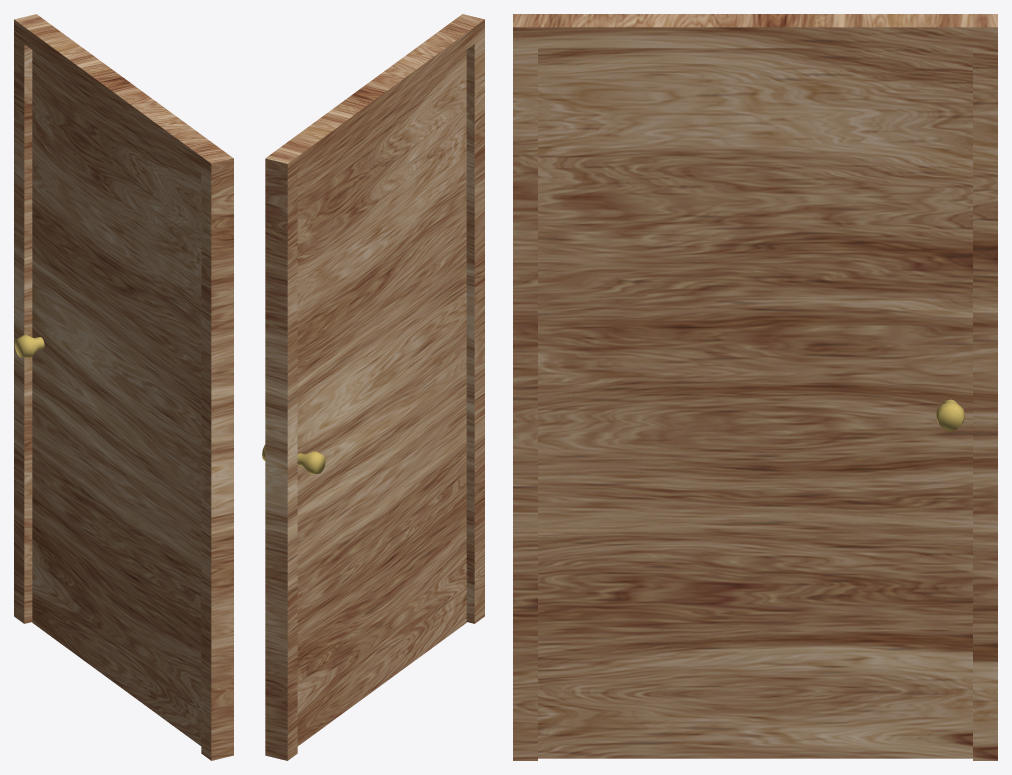
The model's file is G_p_tuer1.fbx.
3 renders of one model, left to right at view 1: azimuth 30°, elevation 25°; view 2: azimuth 150°, elevation 25°; view 3: azimuth 270°, elevation 25°, orthographic. The views are drawn at different scales.
Visible parts, largest first — view 1: Tuer, Tuerrahmen; view 2: Tuer, Tuerrahmen; view 3: Tuer, Tuerrahmen.
Part boxes in pixels (<box>): Tuer: <box>14,50,201,745</box>; Tuerrahmen: <box>14,14,233,760</box>; Tuer: <box>262,50,466,745</box>; Tuerrahmen: <box>265,14,484,760</box>; Tuer: <box>538,48,972,758</box>; Tuerrahmen: <box>513,14,997,760</box>.
Size of the model in its own units: 19.5 by 207 by 124.
